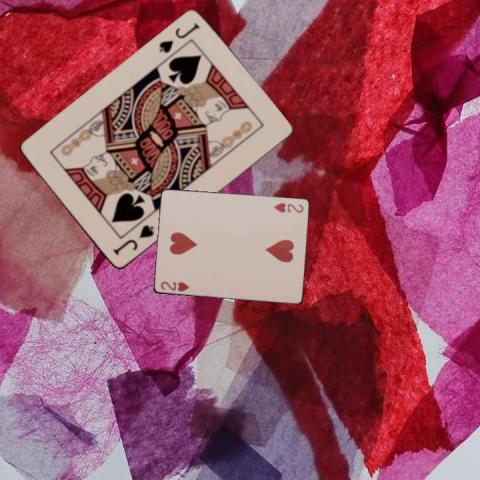2h: (270, 200, 305, 215), (157, 279, 190, 293)
Js: (155, 20, 201, 55), (110, 222, 155, 257)
